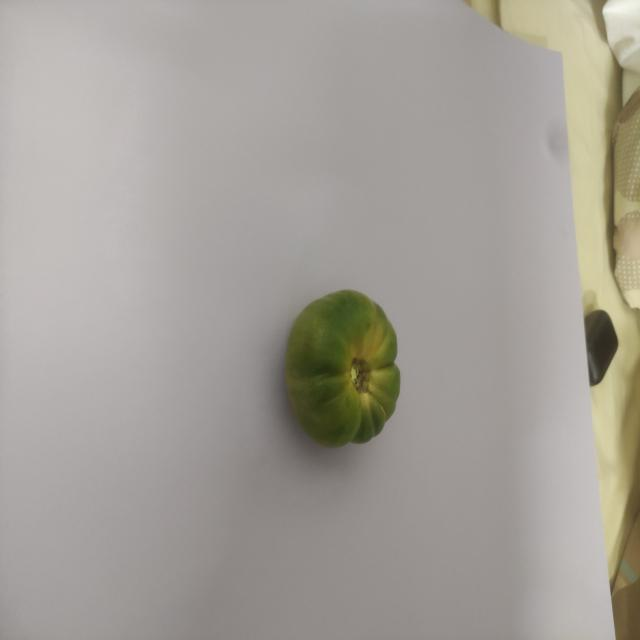yesil: (278, 284, 424, 459)
